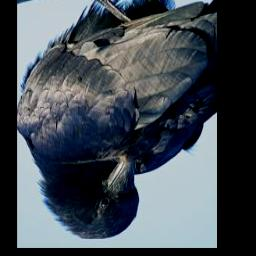Crow: (19, 0, 217, 240)
